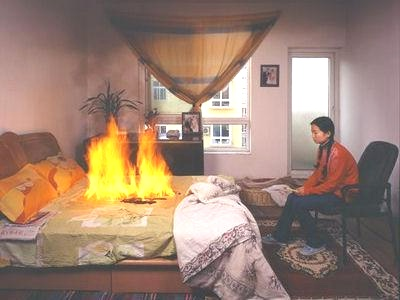fire: (75, 106, 173, 214)
